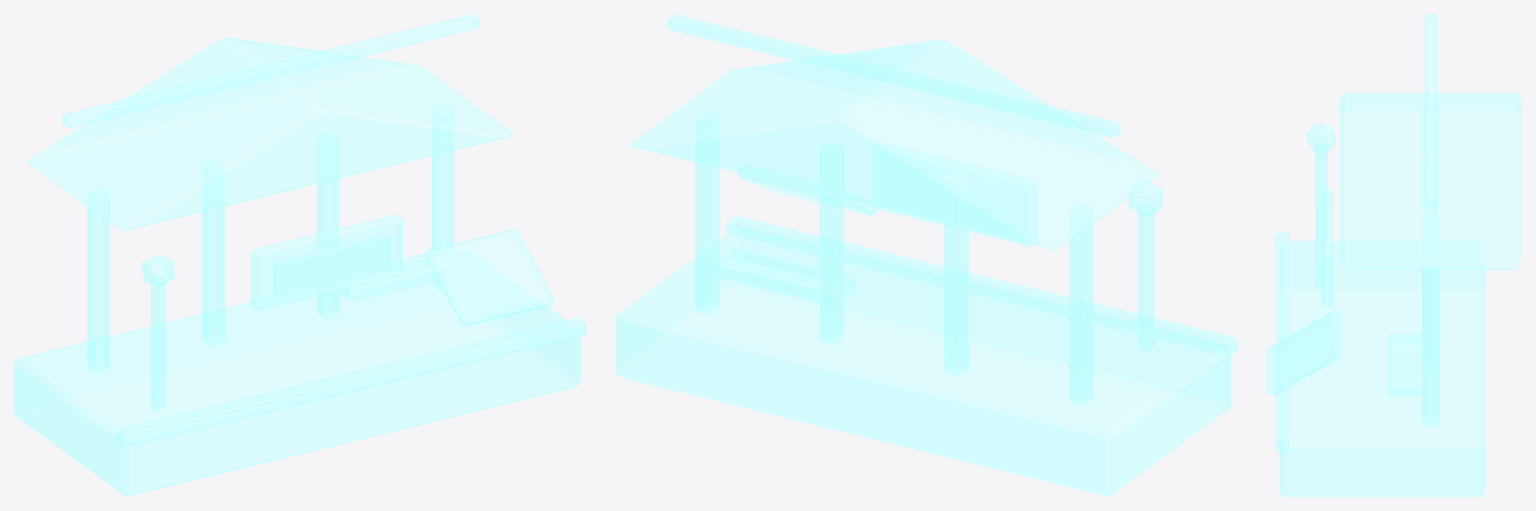
File: GH_Building_Station.fbx
The picture shows the model from 3 angles, left to right: view 1: azimuth 30°, elevation 25°; view 2: azimuth 150°, elevation 25°; view 3: azimuth 270°, elevation 25°; orthographic projection. The views are drawn at different scales.
Visible parts, largest first — view 1: SM_Building_Station; view 2: SM_Building_Station; view 3: SM_Building_Station.
Boxes of the visible parts, left/top/right/bottom form: SM_Building_Station: left=14, top=14, right=586, bottom=496; SM_Building_Station: left=615, top=14, right=1237, bottom=496; SM_Building_Station: left=1266, top=14, right=1521, bottom=496.
Bounding box in the file's own units: 4.05 × 2.65 × 2.11.
